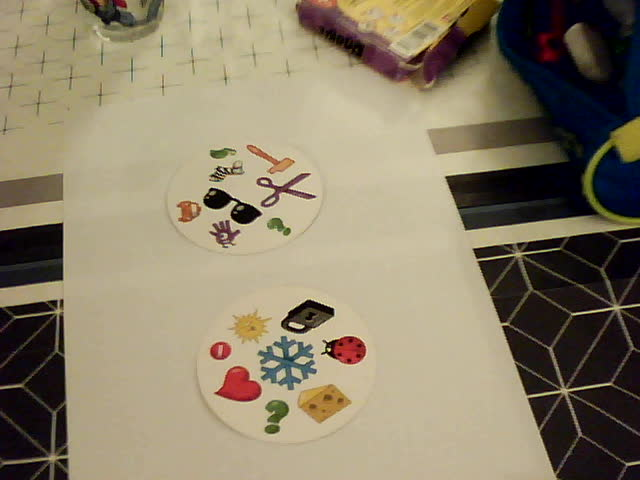cadenas: (280, 299, 338, 336)
ciseau: (252, 170, 317, 208)
coccinelle: (320, 334, 368, 366)
coeur: (210, 365, 264, 405)
flocon: (256, 335, 321, 389)
fromage: (296, 383, 355, 425)
lunette: (201, 186, 263, 226)
main: (201, 220, 242, 248)
marteau: (242, 142, 297, 175)
point_interrogation: (262, 399, 290, 434), (262, 218, 295, 241)
sens_interdit: (207, 341, 234, 362)
soleil: (223, 307, 273, 345)
tortue: (201, 145, 244, 164)
voiture: (172, 199, 204, 224)
zebre: (204, 158, 247, 186)
